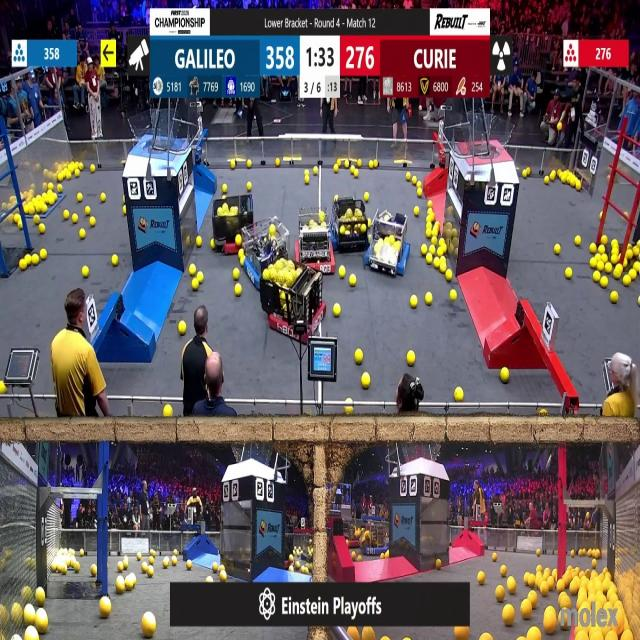ball_airborne: (346, 627, 359, 640), (456, 626, 468, 640), (362, 627, 373, 640)
ball_ground: (142, 615, 156, 638), (35, 612, 48, 636), (543, 612, 555, 636), (502, 605, 514, 625), (100, 598, 112, 617), (36, 588, 45, 607), (522, 602, 532, 619), (559, 594, 570, 608), (496, 586, 505, 602), (361, 374, 370, 389), (118, 579, 127, 594), (528, 629, 540, 640), (454, 387, 464, 400), (126, 578, 136, 591), (506, 580, 515, 594), (408, 351, 416, 366), (500, 367, 508, 382), (178, 320, 186, 334), (355, 350, 363, 364), (615, 266, 623, 280), (27, 629, 38, 639), (334, 305, 342, 318), (165, 407, 173, 419), (529, 592, 537, 604), (600, 264, 610, 273), (450, 289, 458, 300), (18, 261, 26, 272), (601, 276, 608, 288), (479, 571, 486, 583), (92, 564, 99, 576), (420, 245, 428, 255), (610, 253, 618, 263), (237, 235, 243, 248), (235, 284, 242, 295), (610, 291, 617, 302), (111, 254, 118, 265), (555, 244, 562, 255), (234, 270, 241, 281), (565, 269, 572, 280), (220, 570, 227, 581), (198, 273, 205, 284), (188, 266, 195, 277), (440, 262, 447, 273), (590, 257, 597, 268), (482, 633, 493, 640), (426, 292, 432, 304), (412, 295, 418, 307), (82, 267, 88, 279), (350, 275, 356, 287), (346, 408, 354, 417), (428, 246, 436, 255), (339, 268, 346, 278), (624, 276, 631, 286), (32, 254, 39, 264), (590, 244, 597, 254), (499, 566, 506, 576), (212, 562, 219, 572), (630, 271, 637, 281), (550, 172, 557, 182), (26, 255, 33, 265), (0, 382, 6, 393), (447, 271, 453, 282), (40, 249, 46, 260), (191, 279, 197, 290), (524, 573, 530, 584), (433, 256, 439, 267), (83, 207, 90, 216), (439, 247, 446, 256), (79, 230, 85, 240), (91, 216, 97, 226), (435, 560, 441, 570), (194, 238, 200, 248), (186, 560, 192, 570), (574, 237, 580, 247), (147, 566, 153, 576), (594, 272, 600, 282), (122, 560, 128, 570), (598, 245, 604, 255), (74, 563, 80, 573), (356, 556, 364, 563), (600, 237, 607, 245), (148, 557, 155, 565), (403, 173, 410, 181), (172, 557, 178, 566), (72, 214, 78, 223), (164, 560, 170, 569), (64, 211, 70, 220), (414, 207, 420, 216), (34, 214, 40, 223), (58, 183, 64, 192), (602, 253, 608, 262), (231, 162, 237, 171), (25, 206, 31, 215), (39, 223, 44, 233), (246, 182, 252, 190), (523, 170, 529, 178), (76, 192, 82, 200), (221, 184, 227, 192), (239, 250, 245, 258), (335, 166, 341, 174), (47, 183, 53, 191), (431, 230, 437, 238), (344, 162, 350, 170), (441, 256, 447, 264), (492, 553, 497, 562), (427, 254, 432, 263), (575, 181, 580, 190), (206, 575, 212, 582), (74, 170, 80, 177), (431, 238, 437, 245), (440, 240, 446, 247), (538, 411, 545, 417), (101, 192, 106, 200), (417, 188, 422, 196), (211, 239, 215, 249), (92, 166, 97, 174), (426, 231, 431, 239), (413, 176, 418, 184), (276, 160, 281, 168), (354, 170, 359, 178), (543, 176, 548, 184), (247, 162, 252, 170), (320, 212, 324, 222), (240, 257, 245, 265), (635, 295, 640, 303), (294, 561, 299, 569), (364, 191, 368, 200), (381, 554, 387, 560), (562, 175, 566, 184), (336, 193, 341, 200), (536, 565, 541, 572), (417, 181, 422, 188), (306, 176, 310, 184), (428, 201, 432, 209), (314, 168, 318, 176), (352, 554, 356, 562), (368, 162, 372, 170), (17, 220, 21, 228), (593, 560, 597, 568), (428, 209, 432, 216), (289, 566, 293, 573), (138, 554, 142, 561), (357, 160, 361, 167), (536, 550, 540, 557), (372, 160, 376, 167), (570, 551, 574, 558), (122, 206, 125, 215), (80, 551, 84, 557), (306, 170, 309, 177)
goal: (459, 118, 516, 158), (128, 116, 186, 152)
robot_blue: (365, 214, 413, 277), (244, 221, 291, 280), (331, 198, 370, 254), (358, 520, 390, 556)
robot_red: (263, 258, 325, 340), (212, 195, 256, 252), (300, 216, 335, 270), (344, 522, 364, 548)
